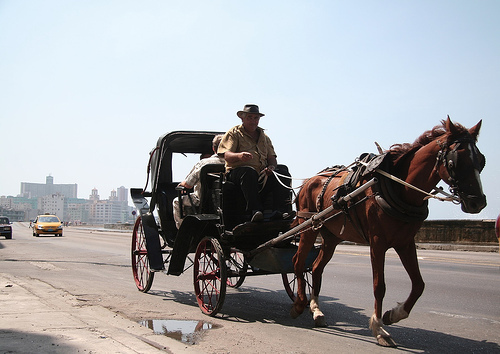horse: (289, 116, 488, 347)
